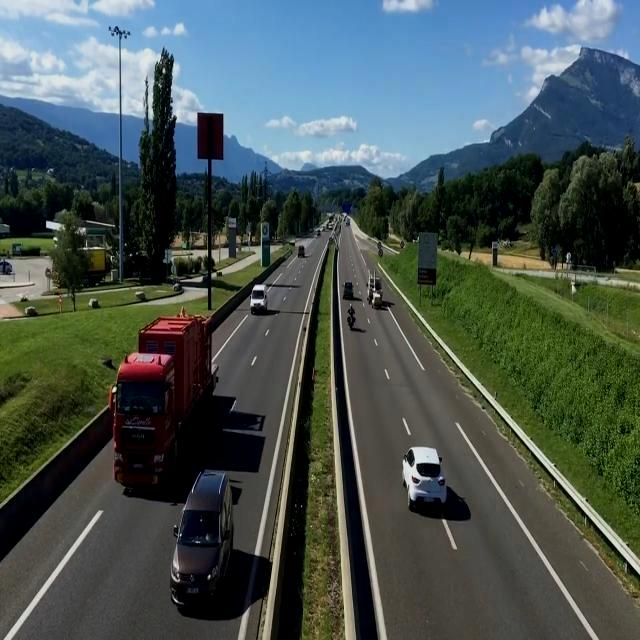Car: (169, 470, 236, 613), (400, 446, 449, 512), (341, 281, 356, 299)
Cycle: (346, 311, 357, 329)
Truck: (108, 306, 220, 492)
Van: (250, 285, 268, 315)
